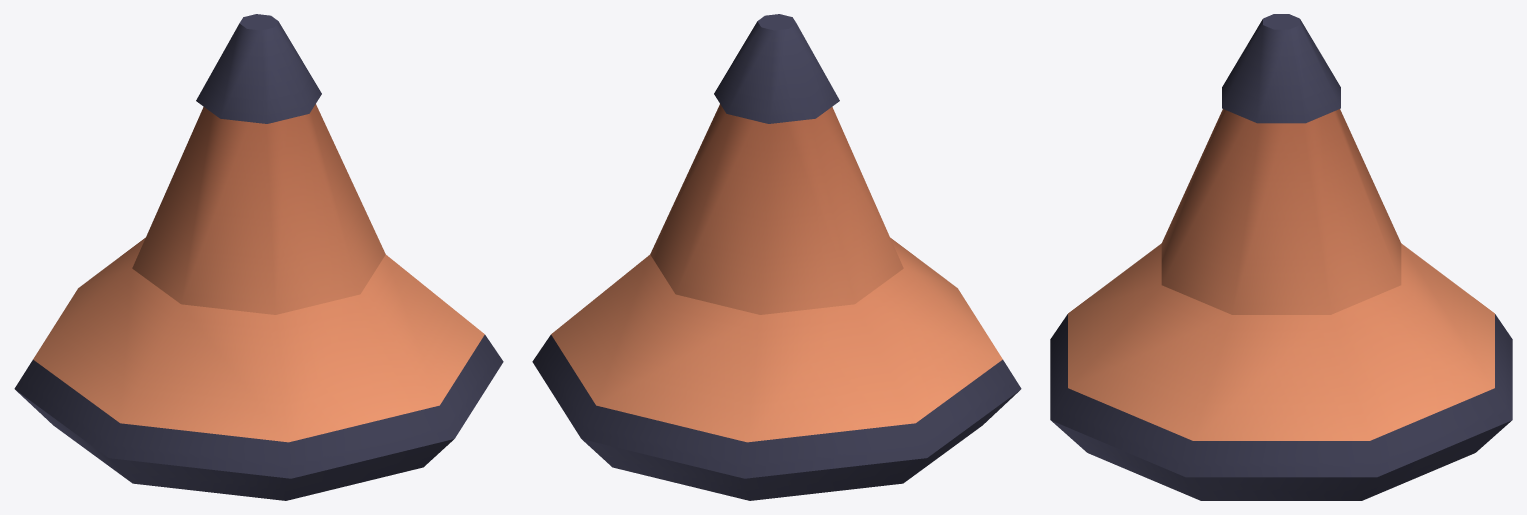
Rendered from tower-roof.fbx.
The picture shows the model from 3 angles, left to right: view 1: azimuth 30°, elevation 25°; view 2: azimuth 150°, elevation 25°; view 3: azimuth 270°, elevation 25°; orthographic projection.
Visible parts, largest first — view 1: tower-roof; view 2: tower-roof; view 3: tower-roof.
Boxes of the visible parts, left/top/right/bottom form: tower-roof: left=14, top=14, right=503, bottom=500; tower-roof: left=532, top=14, right=1021, bottom=500; tower-roof: left=1050, top=14, right=1512, bottom=500.
Size of the model in its own units: 363 by 344 by 363.
